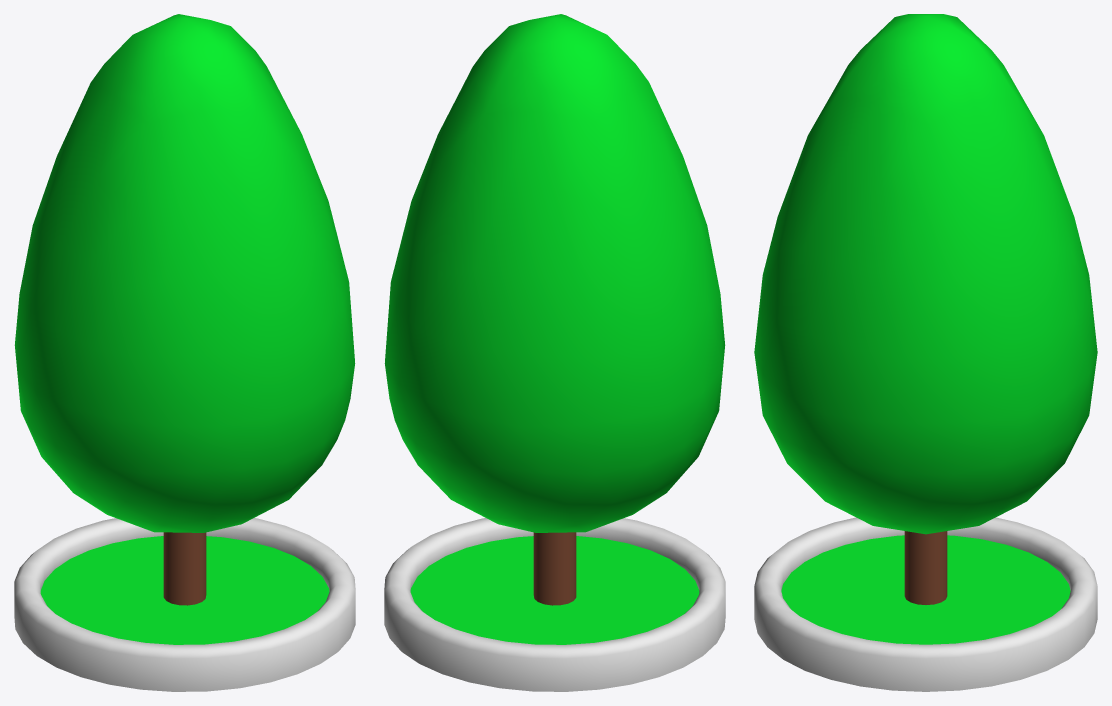
The model's file is Pisces Planted Tree.fbx.
3 renders of one model, left to right at view 1: azimuth 30°, elevation 25°; view 2: azimuth 150°, elevation 25°; view 3: azimuth 270°, elevation 25°, orthographic.
Visible parts, largest first — view 1: Cylinder; view 2: Cylinder; view 3: Cylinder.
Boxes of the visible parts, x1,y1,x2,y2 form: Cylinder: [14, 14, 355, 691]; Cylinder: [384, 14, 725, 691]; Cylinder: [754, 14, 1097, 691].
Size of the model in its own units: 200 by 388 by 200.
